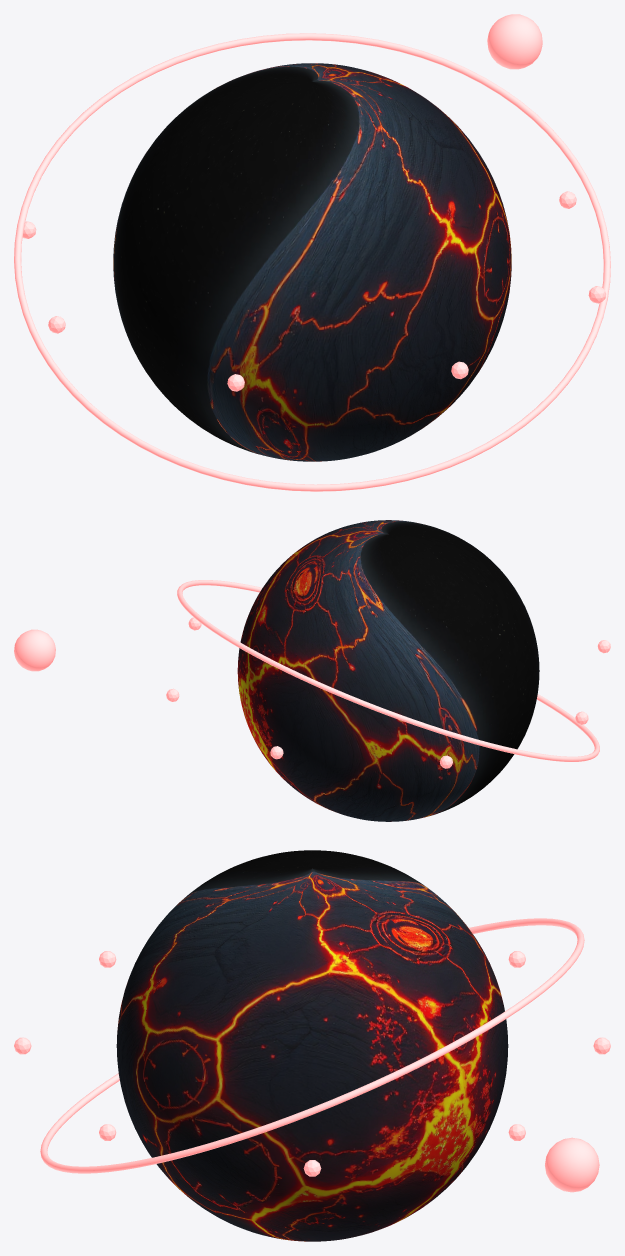
Rendered from pyros_foundry.glb.
3 views of the same model, one above another, from view 1: azimuth 30°, elevation 25°; view 2: azimuth 150°, elevation 25°; view 3: azimuth 270°, elevation 25° (orthographic). The views are drawn at different scales.
Visible parts, largest first — view 1: Planet_pyros_foundry, OrbitalRing_pyros_foundry, Moon_0; view 2: Planet_pyros_foundry, OrbitalRing_pyros_foundry, Moon_0; view 3: Planet_pyros_foundry, OrbitalRing_pyros_foundry, Moon_0.
Boxes of the visible parts, x1,y1,x2,y2 form: Planet_pyros_foundry: (113,63,511,461); OrbitalRing_pyros_foundry: (14,33,610,491); Moon_0: (487,14,542,69); Planet_pyros_foundry: (237,520,539,821); OrbitalRing_pyros_foundry: (177,580,599,761); Moon_0: (14,629,55,671); Planet_pyros_foundry: (116,850,508,1241); OrbitalRing_pyros_foundry: (40,918,584,1173); Moon_0: (545,1137,599,1192).
Size of the model in its own units: 3.6 by 2 by 3.05.
Materials: 2 (1 with a texture image).
